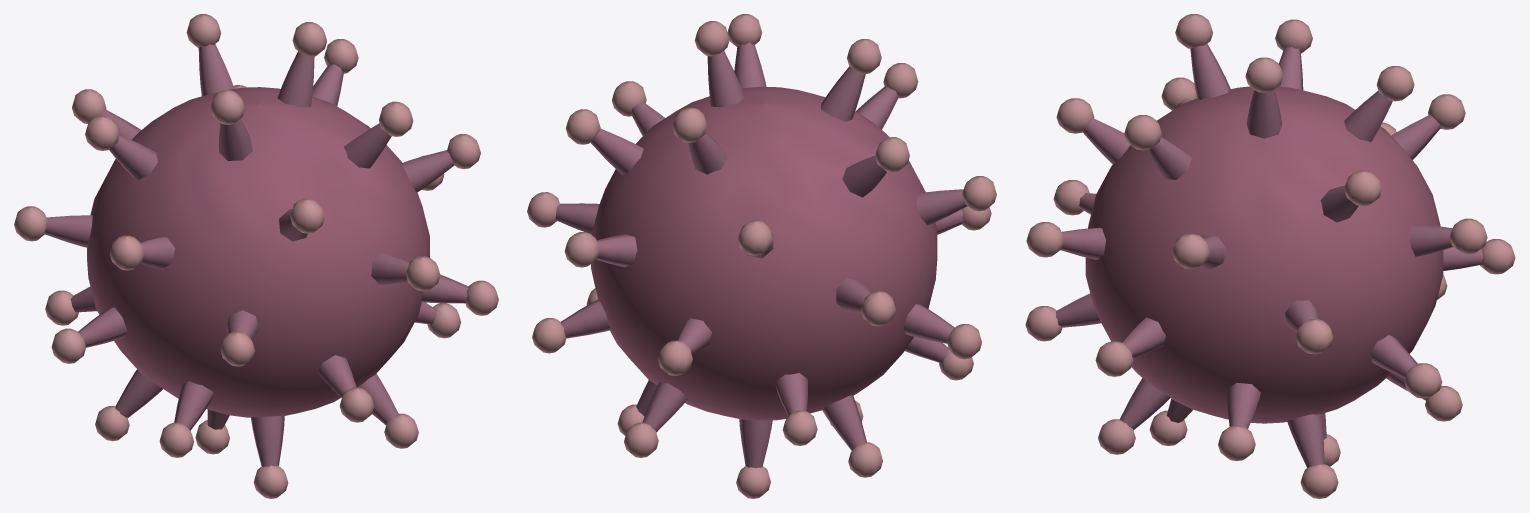
The model's file is blight.glb.
The picture shows the model from 3 angles, left to right: view 1: azimuth 30°, elevation 25°; view 2: azimuth 150°, elevation 25°; view 3: azimuth 270°, elevation 25°; orthographic projection. The views are drawn at different scales.
Parts seen in each view (by area): view 1: body; view 2: body; view 3: body.
Boxes of the visible parts, x1,y1,x2,y2 form: body: (14,14,498,498); body: (527,14,996,498); body: (1025,14,1515,498).
Size of the model in its own units: 1.17 by 1.17 by 1.17.
